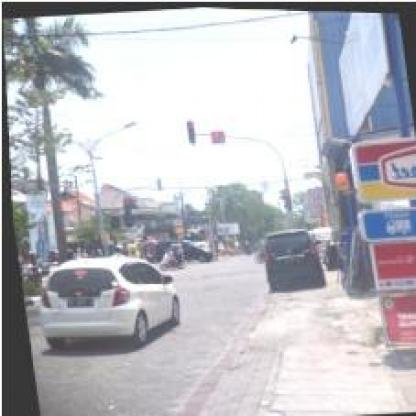red: (119, 196, 130, 218), (184, 118, 194, 142), (280, 184, 288, 208)
